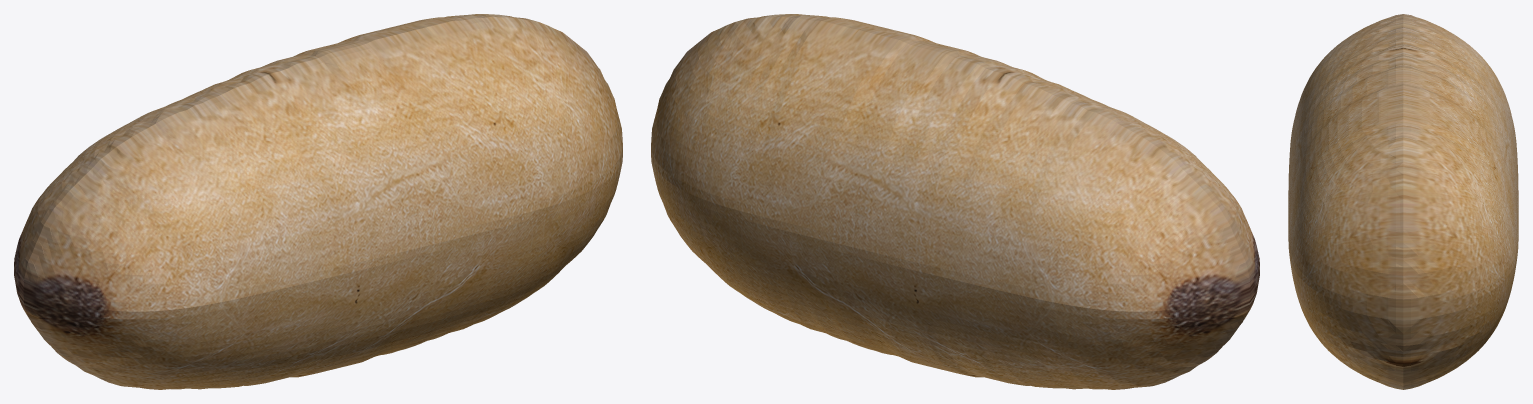
Rendered from cocoon.glb.
The picture shows the model from 3 angles, left to right: view 1: azimuth 30°, elevation 25°; view 2: azimuth 150°, elevation 25°; view 3: azimuth 270°, elevation 25°; orthographic projection. The views are drawn at different scales.
Visible parts, largest first — view 1: cocoon; view 2: cocoon; view 3: cocoon.
Boxes of the visible parts, x1,y1,x2,y2 form: cocoon: (14,14,622,389); cocoon: (651,14,1259,389); cocoon: (1288,14,1518,389).
Bounding box in the file's own units: 1.15 × 0.5797 × 0.4475.
1 material, 1 textured.
